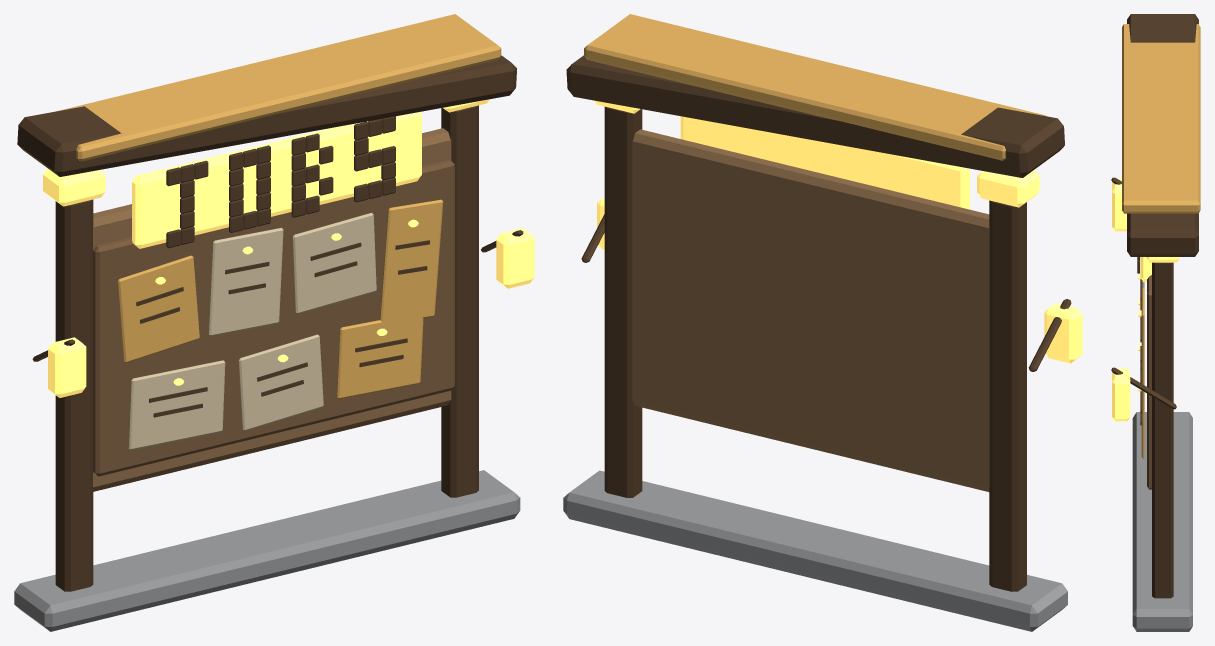
File: jobs_board_amber.glb
3 renders of one model, left to right at view 1: azimuth 30°, elevation 25°; view 2: azimuth 150°, elevation 25°; view 3: azimuth 270°, elevation 25°, orthographic. The views are drawn at different scales.
Size of the model in its own units: 6.62 by 6.45 by 1.23.
